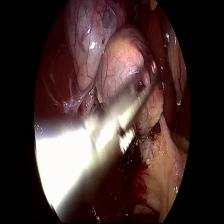Grasper: (34, 51, 165, 220)
